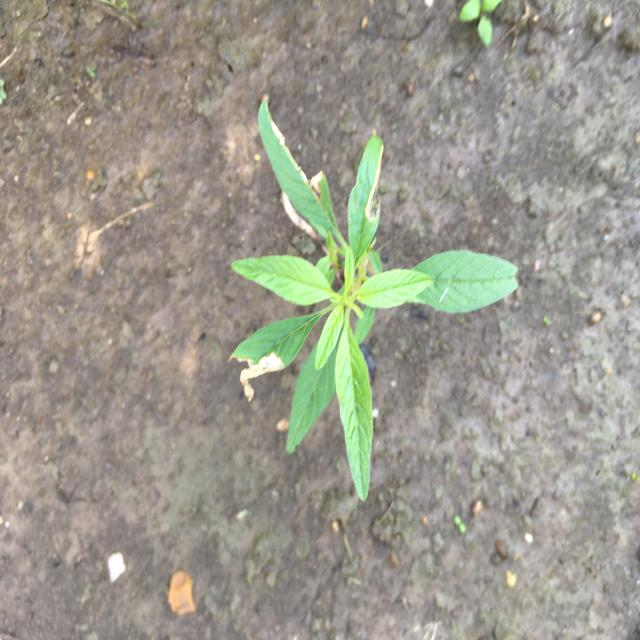Waterhemp: (227, 96, 522, 507)
